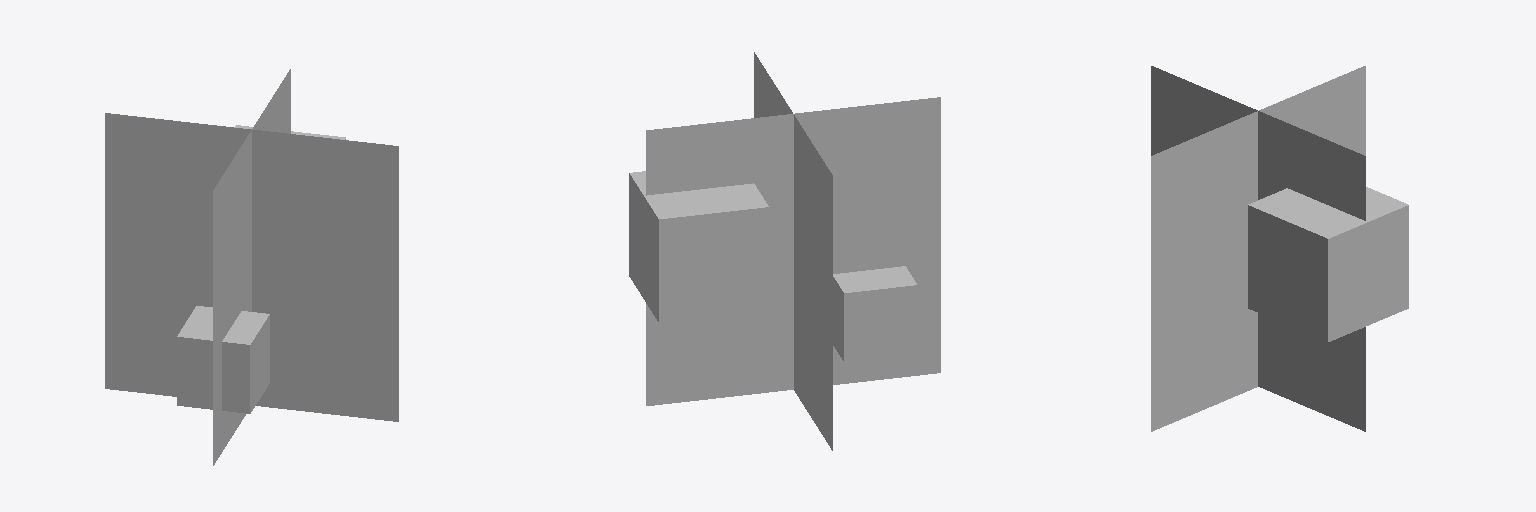
File: bulbine_stem_0.obj
The picture shows the model from 3 angles: view 1: azimuth 30°, elevation 25°; view 2: azimuth 150°, elevation 25°; view 3: azimuth 270°, elevation 25°; orthographic projection.
Parts seen in each view (by area): view 1: stem_1_Cube; view 2: stem_1_Cube; view 3: stem_1_Cube.
Part boxes in pixels (x1,y1,x2,y2): stem_1_Cube: (105, 69, 398, 465); stem_1_Cube: (629, 52, 940, 450); stem_1_Cube: (1151, 66, 1408, 431).
Bounding box in the file's own units: 0.8677 × 1 × 0.8485.